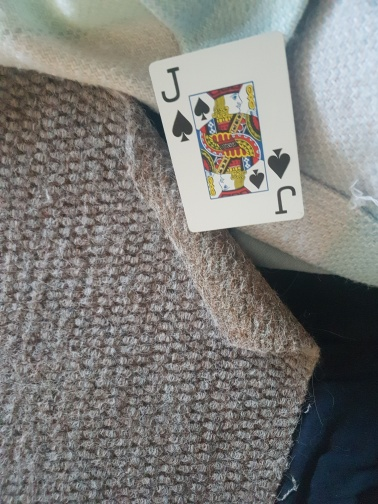jack: (150, 33, 307, 236)
